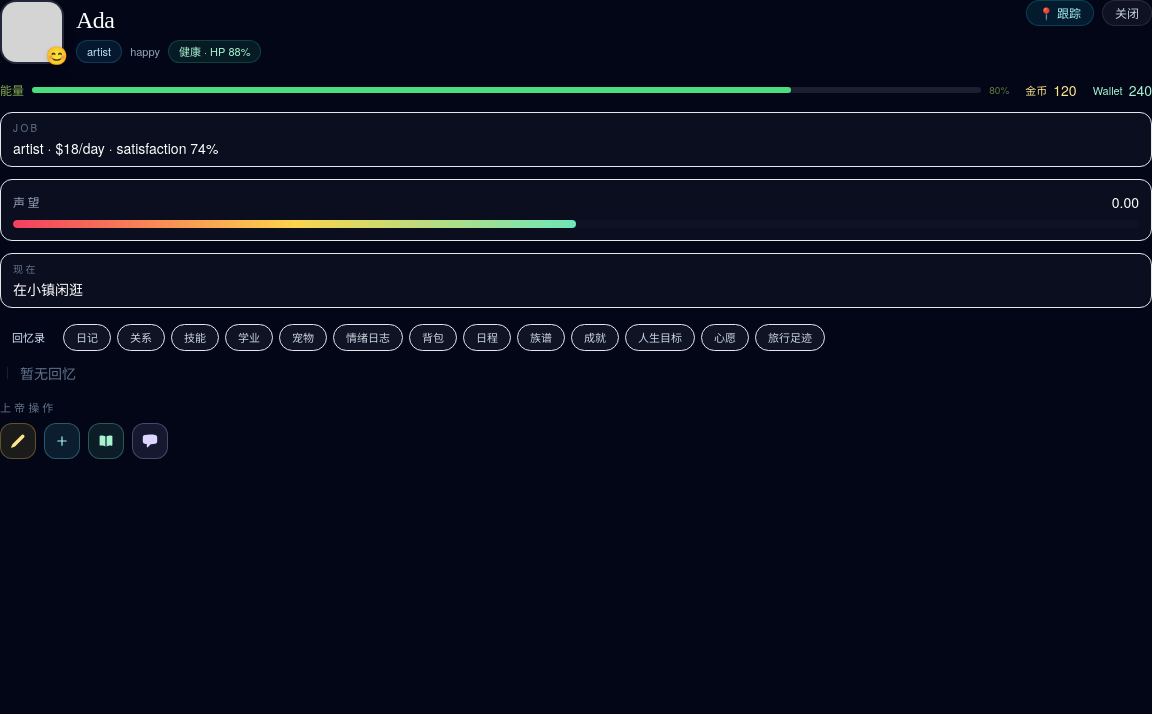
Test: resident avatar placements › renders an education tab with radar data and course history
What coordinates should you click on to do the following:
click the tab "学业"
I would click on:
 (249, 337)
Its box is x1=225 y1=324 x2=273 y2=350.
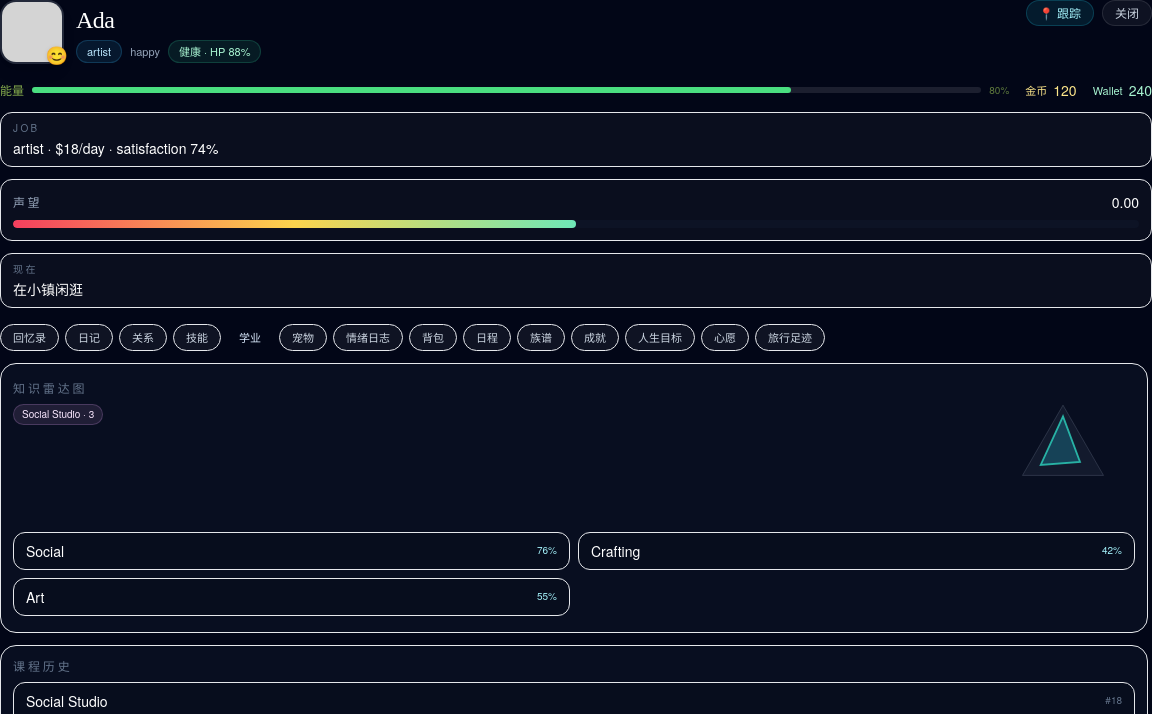
Expected: the text "Social Studio · 3" is shown, x1=13 y1=404 x2=103 y2=424
Expected: the text "crafting" is shown, x1=591 y1=540 x2=640 y2=560
Expected: the icon named "education-radar" is shown, x1=991 y1=380 x2=1135 y2=524
